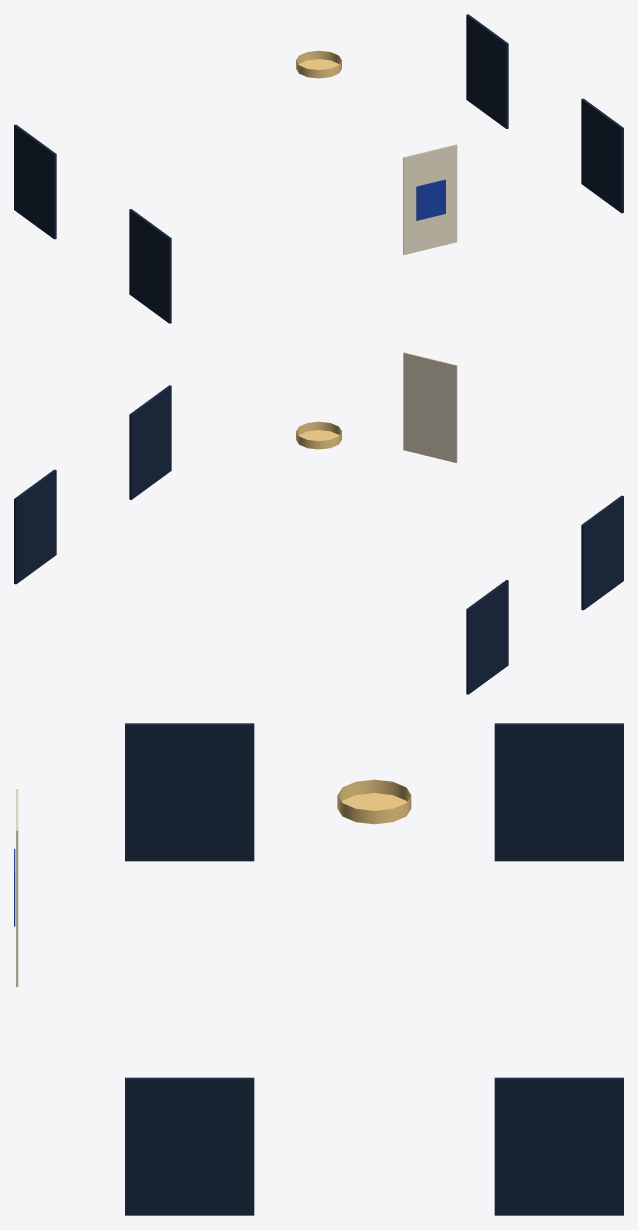
Rendered from SM_Interior_obelisk_player_room_NoCol.fbx.
3 views of the same model, one above another, from view 1: azimuth 30°, elevation 25°; view 2: azimuth 150°, elevation 25°; view 3: azimuth 270°, elevation 25° (orthographic). The views are drawn at different scales.
Parts seen in each view (by area): view 1: SM_Interior_obelisk_player_room_NoCol; view 2: SM_Interior_obelisk_player_room_NoCol; view 3: SM_Interior_obelisk_player_room_NoCol.
Boxes of the visible parts, bbox=[...] form: SM_Interior_obelisk_player_room_NoCol: bbox=[14, 14, 623, 323]; SM_Interior_obelisk_player_room_NoCol: bbox=[14, 352, 623, 694]; SM_Interior_obelisk_player_room_NoCol: bbox=[14, 723, 623, 1215].
Size of the model in its own units: 6.84 by 2.17 by 4.95.
